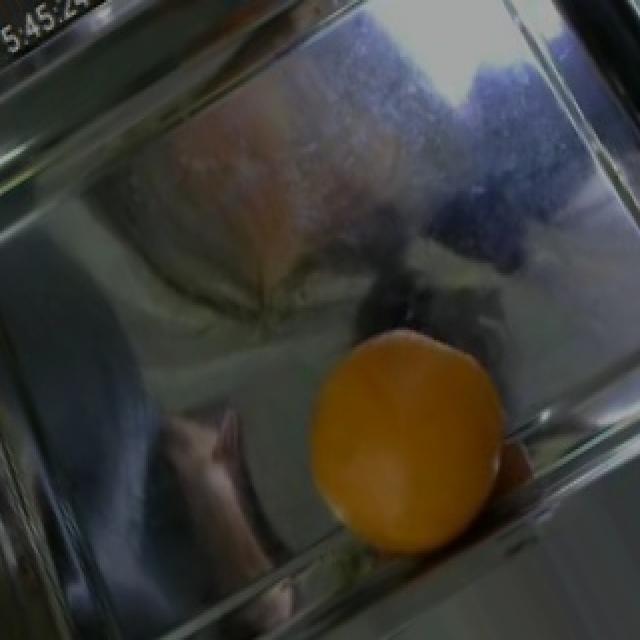Fruit: (282, 327, 526, 578), (112, 387, 290, 640)
